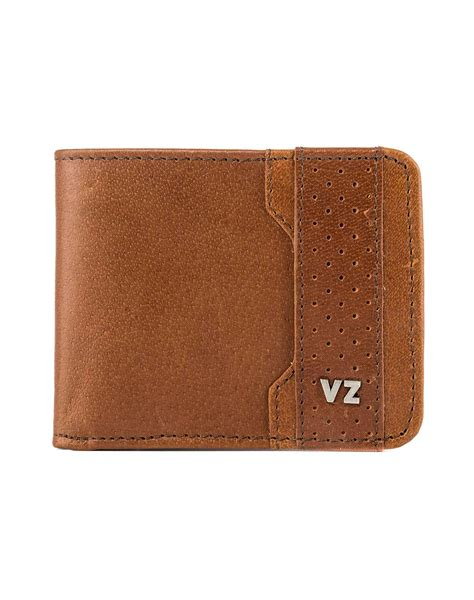cuero: (53, 147, 423, 452)
